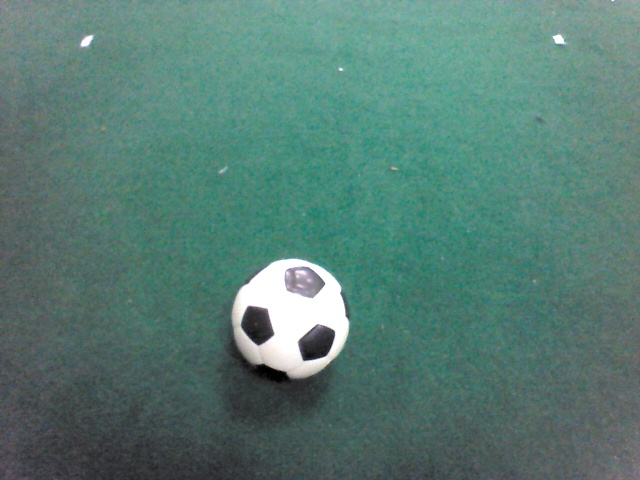ball: (227, 257, 354, 386)
